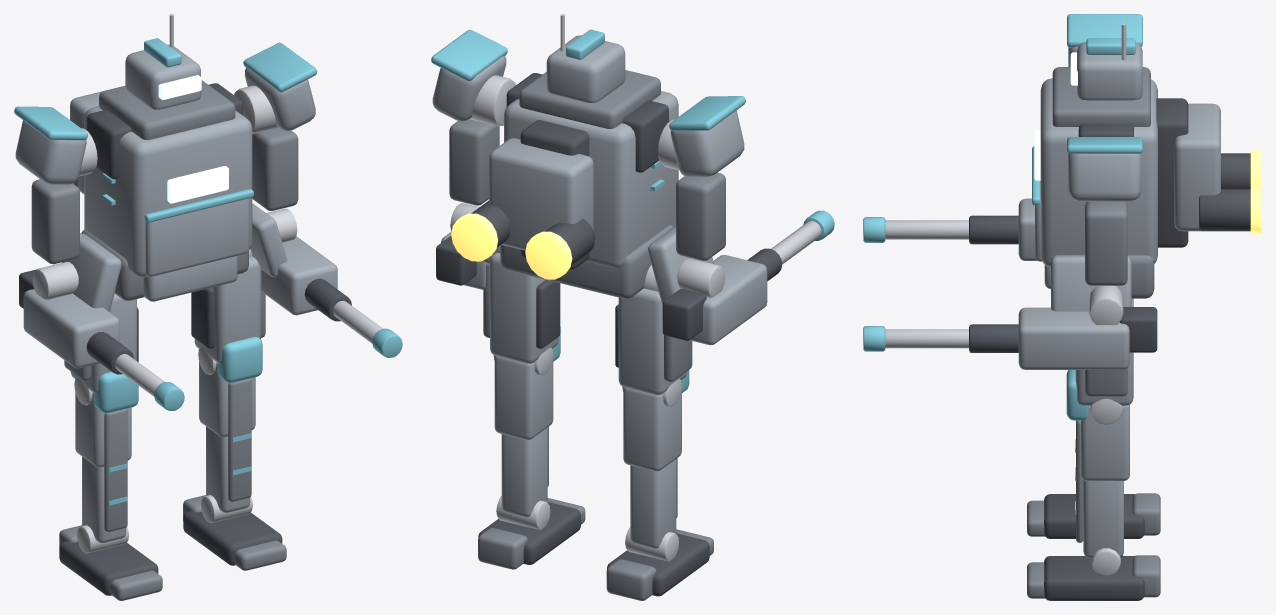
The model's file is skirmisher.glb.
3 renders of one model, left to right at view 1: azimuth 30°, elevation 25°; view 2: azimuth 150°, elevation 25°; view 3: azimuth 270°, elevation 25°, orthographic. The views are drawn at different scales.
Parts seen in each view (by area): view 1: SKM_torso_shell, SKM_torso_plate, SKM_gun_r_shell, SKM_knee_r_shell, SKM_knee_l_shell, SKM_arm_r_plate, SKM_arm_l_plate, SKM_leg_l_shell, SKM_gun_l_shell, SKM_arm_r_shell, SKM_foot_r_dark, SKM_foot_l_dark (+27 smaller); view 2: SKM_torso_shell, SKM_knee_l_shell, SKM_knee_r_shell, SKM_torso_plate, SKM_leg_r_shell, SKM_leg_l_shell, SKM_arm_r_plate, SKM_gun_r_shell, SKM_torso_dark, SKM_head_shell, SKM_torso_hot, SKM_arm_l_plate (+20 smaller); view 3: SKM_torso_shell, SKM_torso_dark, SKM_gun_l_shell, SKM_knee_l_shell, SKM_torso_plate, SKM_foot_l_dark, SKM_arm_l_plate, SKM_arm_l_shell, SKM_head_shell, SKM_gun_l_dark, SKM_foot_r_dark, SKM_arm_r_trim (+19 smaller).
Boxes of the visible parts, <box> form: SKM_torso_shell: <box>62,91,287,311</box>; SKM_torso_plate: <box>81,80,248,300</box>; SKM_gun_r_shell: <box>23,289,119,368</box>; SKM_knee_r_shell: <box>75,392,131,542</box>; SKM_knee_l_shell: <box>199,361,255,512</box>; SKM_arm_r_plate: <box>31,179,79,264</box>; SKM_arm_l_plate: <box>252,128,298,210</box>; SKM_leg_l_shell: <box>194,256,260,363</box>; SKM_gun_l_shell: <box>261,236,337,315</box>; SKM_arm_r_shell: <box>15,120,86,184</box>; SKM_foot_r_dark: <box>59,541,158,595</box>; SKM_foot_l_dark: <box>183,511,282,565</box>; SKM_torso_shell: <box>482,91,713,303</box>; SKM_knee_l_shell: <box>494,356,553,517</box>; SKM_knee_r_shell: <box>623,387,681,548</box>; SKM_torso_plate: <box>500,70,673,298</box>; SKM_leg_r_shell: <box>618,288,687,395</box>; SKM_leg_l_shell: <box>490,252,558,363</box>; SKM_arm_r_plate: <box>676,172,725,260</box>; SKM_gun_r_shell: <box>690,255,767,345</box>; SKM_torso_dark: <box>471,120,595,269</box>; SKM_head_shell: <box>546,35,625,102</box>; SKM_torso_hot: <box>451,213,572,279</box>; SKM_arm_l_plate: <box>449,119,499,205</box>; SKM_torso_shell: <box>1035,78,1220,311</box>; SKM_torso_dark: <box>1156,98,1250,247</box>; SKM_gun_l_shell: <box>1018,307,1129,369</box>; SKM_knee_l_shell: <box>1081,405,1129,558</box>; SKM_torso_plate: <box>1052,67,1154,298</box>; SKM_foot_l_dark: <box>1044,556,1144,600</box>; SKM_arm_l_plate: <box>1085,201,1127,285</box>; SKM_arm_l_shell: <box>1068,153,1141,201</box>; SKM_head_shell: <box>1077,42,1142,100</box>; SKM_gun_l_dark: <box>969,307,1157,352</box>; SKM_foot_r_dark: <box>1044,494,1144,538</box>; SKM_arm_r_trim: <box>1067,14,1142,47</box>.
Size of the model in its own units: 2.53 by 4.7 by 3.13.
